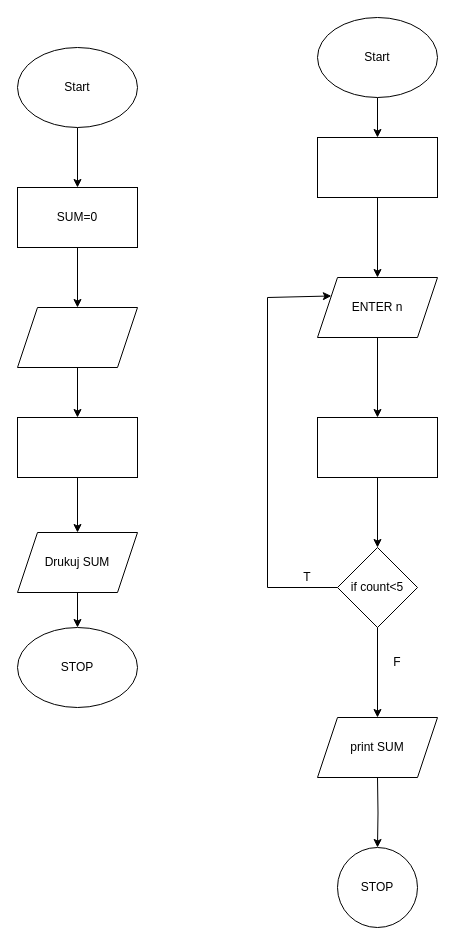
This 455x945 diagram has some shape labels left out. Each missing label, with the box of its shape:
SUM=0 count=0: (316, 136, 438, 198)
SUM=10+20: (16, 416, 138, 478)
sum=sum+n count=count+1: (316, 416, 438, 478)
Wprowadź liczby 10 i 20: (16, 306, 138, 368)
